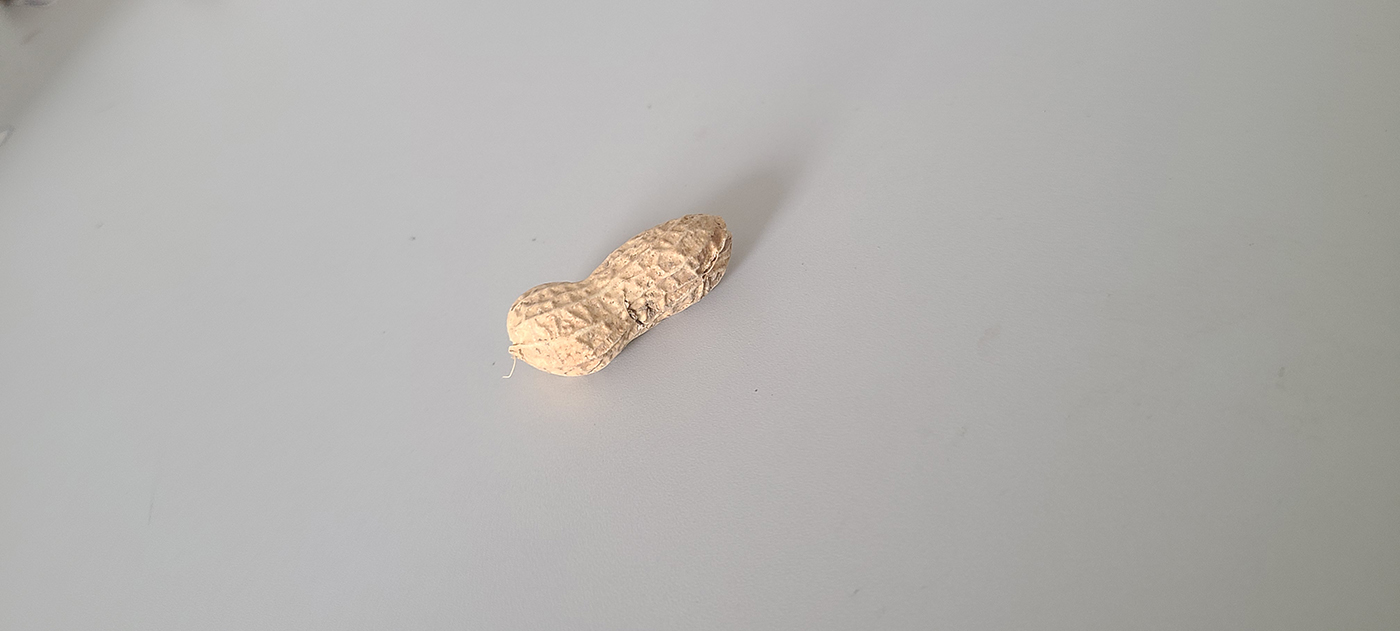h: (500, 211, 736, 376)
